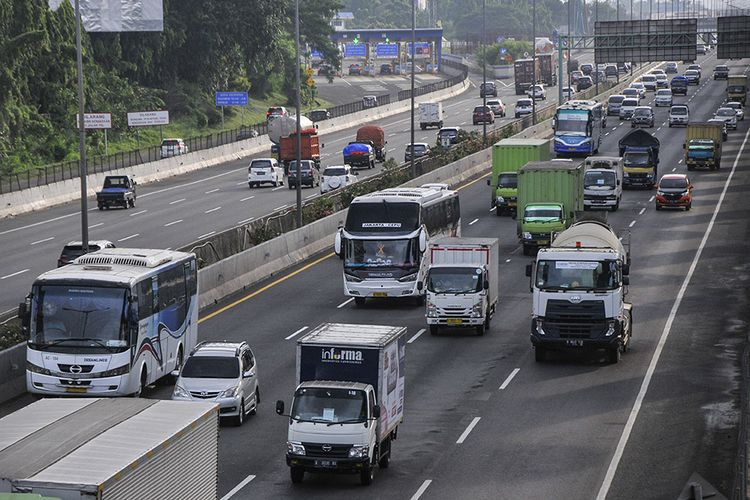car: (26, 245, 202, 392), (288, 321, 402, 483), (534, 217, 634, 365), (338, 186, 463, 303), (430, 235, 500, 336), (176, 340, 260, 420), (520, 162, 587, 255), (490, 136, 549, 218), (618, 126, 659, 189), (555, 99, 601, 153), (583, 155, 623, 211), (279, 130, 323, 172), (686, 120, 721, 172), (58, 239, 113, 271), (97, 174, 137, 212), (658, 173, 691, 214), (321, 166, 359, 200), (247, 157, 282, 189), (358, 125, 386, 161), (514, 59, 540, 96), (288, 159, 318, 190), (533, 52, 557, 89), (345, 140, 376, 168), (418, 100, 445, 131), (726, 75, 748, 108), (437, 127, 463, 151), (160, 137, 187, 159), (669, 102, 691, 128), (405, 144, 431, 165), (633, 106, 654, 130), (715, 108, 737, 130), (620, 99, 641, 121), (708, 119, 726, 144), (474, 106, 494, 126), (726, 102, 745, 123), (514, 99, 535, 118), (607, 96, 625, 118), (670, 76, 688, 97), (486, 101, 506, 118), (654, 89, 672, 106), (622, 89, 639, 107), (630, 83, 646, 100), (528, 85, 546, 100), (642, 74, 657, 92), (480, 83, 496, 99), (684, 70, 699, 87), (563, 86, 576, 104), (715, 65, 729, 81), (570, 70, 583, 85), (566, 60, 578, 76)
